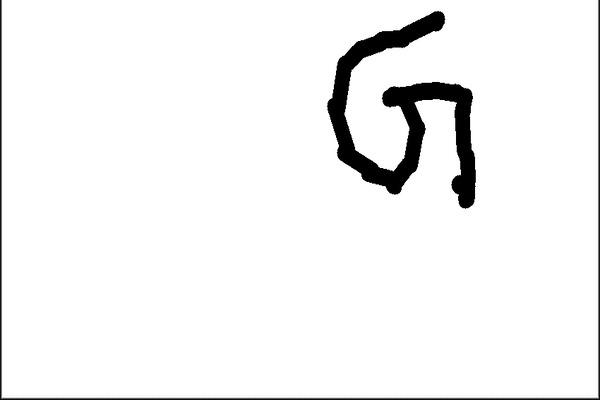G: (324, 7, 486, 211)
